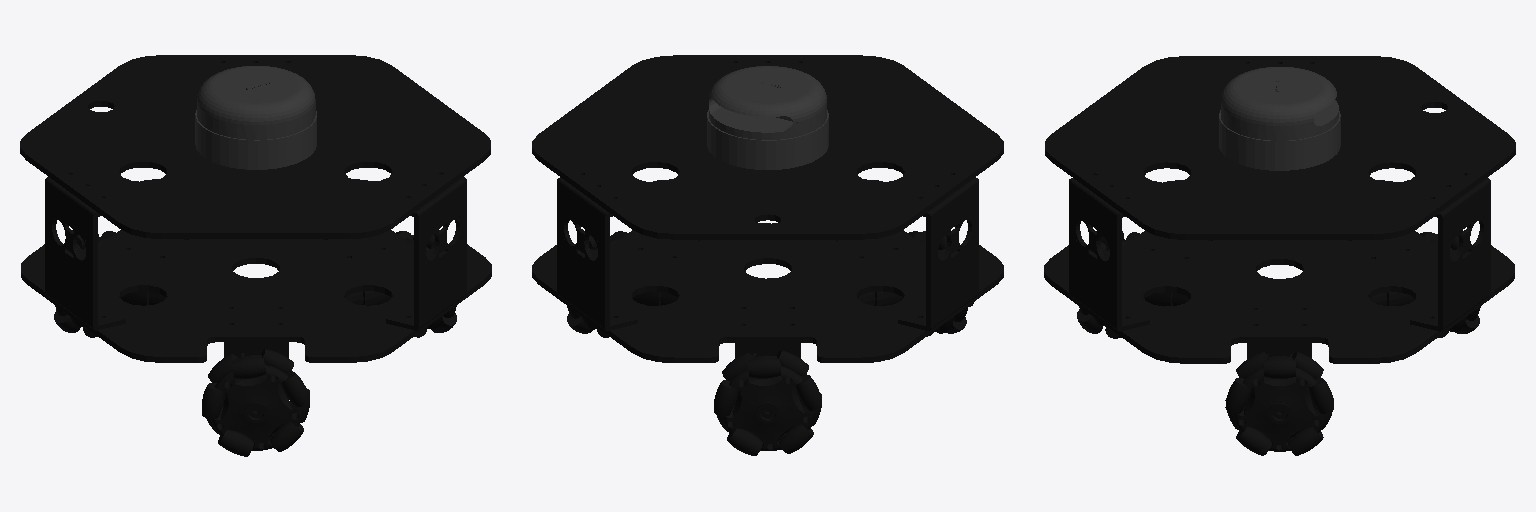
URDF robot description (pibot_description):
<robot
  name="pibot_description">
  <link
    name="base_link">
    <inertial>
      <origin
        xyz="-3.8443E-05 -0.0058969 -2.2276E-05"
        rpy="0 0 -0.52359877559829887307710723054658" />
      <mass
        value="1.8434" />
      <inertia
        ixx="0.009716"
        ixy="6.4907E-06"
        ixz="4.9568E-06"
        iyy="0.013594"
        iyz="3.7435E-06"
        izz="0.0097103" />
    </inertial>
    <visual>
      <origin
        xyz="0 0 0.068"
        rpy="0 0 2.6179938779914943653855361527329" />
      <geometry>
        <mesh
          filename="package://pibot_description/meshes/zeus/base_link.stl" />
      </geometry>
      <material
        name="">
        <color
          rgba="0.1 0.1 0.1 1" />
      </material>
    </visual>
    <collision>
      <origin
        xyz="0 0 0"
        rpy="0 0 0" />
      <geometry>
        <mesh
          filename="package://pibot_description/meshes/zeus/base_link.stl" />
      </geometry>
    </collision>
  </link>
  <link
    name="laser_link">
    <inertial>
      <origin
        xyz="2.71E-08 0.018368 -0.001753"
        rpy="0 0 0" />
      <mass
        value="0.17934" />
      <inertia
        ixx="7.997E-05"
        ixy="-1.1455E-10"
        ixz="-3.2835E-13"
        iyy="0.00011888"
        iyz="3.638E-06"
        izz="8.4515E-05" />
    </inertial>
    <visual>
      <origin
        xyz="0 0 0"
        rpy="1.57 0 0" />
      <geometry>
        <mesh
          filename="package://pibot_description/meshes/zeus/laser_link.stl" />
      </geometry>
      <material
        name="">
        <color
          rgba="0.25 0.25 0.25 1.2" />
      </material>
    </visual>
    <collision>
      <origin
        xyz="0 0 0"
        rpy="0 0 0" />
      <geometry>
        <mesh
          filename="package://pibot_description/meshes/zeus/laser_link.stl" />
      </geometry>
    </collision>
  </link>
  <joint
    name="laser_link_joint"
    type="fixed">
    <origin
      xyz="8.3302E-05 -4.8095E-05 0.156"
      rpy="0 -4.8144E-17 3.14" />
    <parent
      link="base_link" />
    <child
      link="laser_link" />
    <axis
      xyz="0 1 0" />
  </joint>
</robot>

--- Facts derived from the render (not from the file) ---
Views: 3 orthographic renders of the robot side by side, from view 1: azimuth 30°, elevation 25°; view 2: azimuth 150°, elevation 25°; view 3: azimuth 270°, elevation 25°.
Robot: pibot_description — 2 links, 1 joints (1 fixed); root link base_link; default pose: all joints at 0.
Links seen in each view (by area): view 1: base_link, laser_link; view 2: base_link, laser_link; view 3: base_link, laser_link.
Boxes of the visible links, x1=… form: base_link: x1=20, y1=55, x2=491, y2=456; laser_link: x1=195, y1=66, x2=316, y2=169; base_link: x1=532, y1=55, x2=1003, y2=455; laser_link: x1=707, y1=66, x2=828, y2=169; base_link: x1=1044, y1=56, x2=1515, y2=455; laser_link: x1=1219, y1=67, x2=1340, y2=170.
Size in the robot's own frame: 0.2647 by 0.2899 by 0.1945 metres.
2 mesh visuals loaded from 2 distinct referenced files (2 binary STL).
